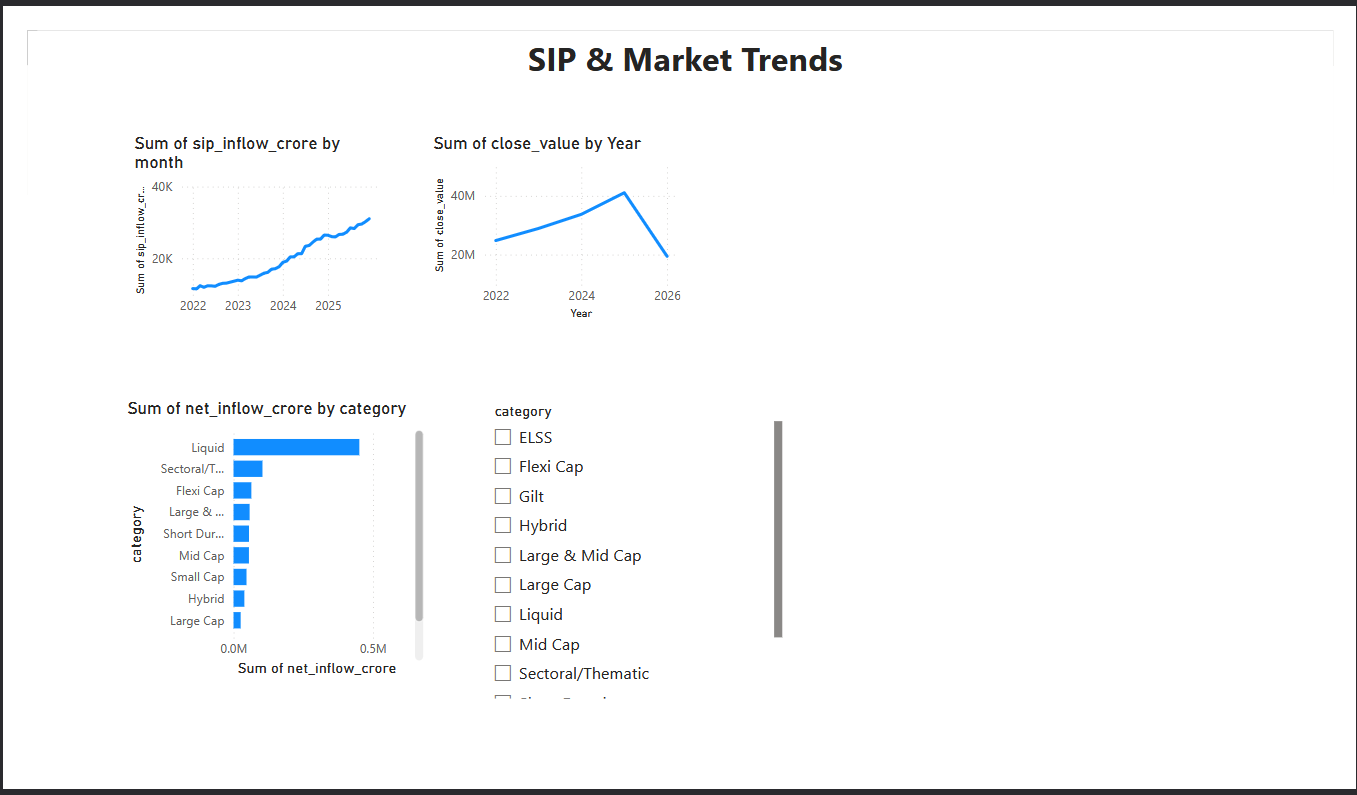

This screenshot's page, from the dashboard's own definition file:
{"tool":"powerbi","page":{"name":"SIP & Market Trends","canvas":[1280,720],"ordinal":3},"visuals":[{"type":"textbox","box":[10,0,1270,720],"z":0},{"type":"lineChart","fields":{"Category":["04_monthly_sip_inflows_clean.month"],"Y":["Sum(04_monthly_sip_inflows_clean.sip_inflow_crore)"]},"box":[100,100,252.5,187.5],"z":1000},{"type":"lineChart","fields":{"Y":["Sum(10_benchmark_indices_clean (2).close_value)"],"Category":["10_benchmark_indices_clean (2).date.Variation.Date Hierarchy.Year"]},"box":[392.5,100,252.5,187.5],"z":2000},{"type":"clusteredBarChart","fields":{"Category":["05_category_inflows_clean.category"],"Y":["Sum(05_category_inflows_clean.net_inflow_crore)"]},"box":[92.5,360,300,300],"z":3000},{"type":"slicer","fields":{"Values":["05_category_inflows_clean.category"]},"box":[445,360,300,300],"z":4000}]}

Visuals, with their boxes on the page's 1280x720 design canvas (x1, y1, x2, y2). These are canvas units, not pixel positions in the 1357x795 screenshot, which may show the page scaled, cropped or inside an application window:
textbox: left=10, top=0, right=1280, bottom=720
lineChart - 04_monthly_sip_inflows_clean.month x Sum(04_monthly_sip_inflows_clean.sip_inflow_crore): left=100, top=100, right=352, bottom=288
lineChart - Sum(10_benchmark_indices_clean (2).close_value) x 10_benchmark_indices_clean (2).date.Variation.Date Hierarchy.Year: left=392, top=100, right=645, bottom=288
clusteredBarChart - 05_category_inflows_clean.category x Sum(05_category_inflows_clean.net_inflow_crore): left=92, top=360, right=392, bottom=660
slicer - 05_category_inflows_clean.category: left=445, top=360, right=745, bottom=660
